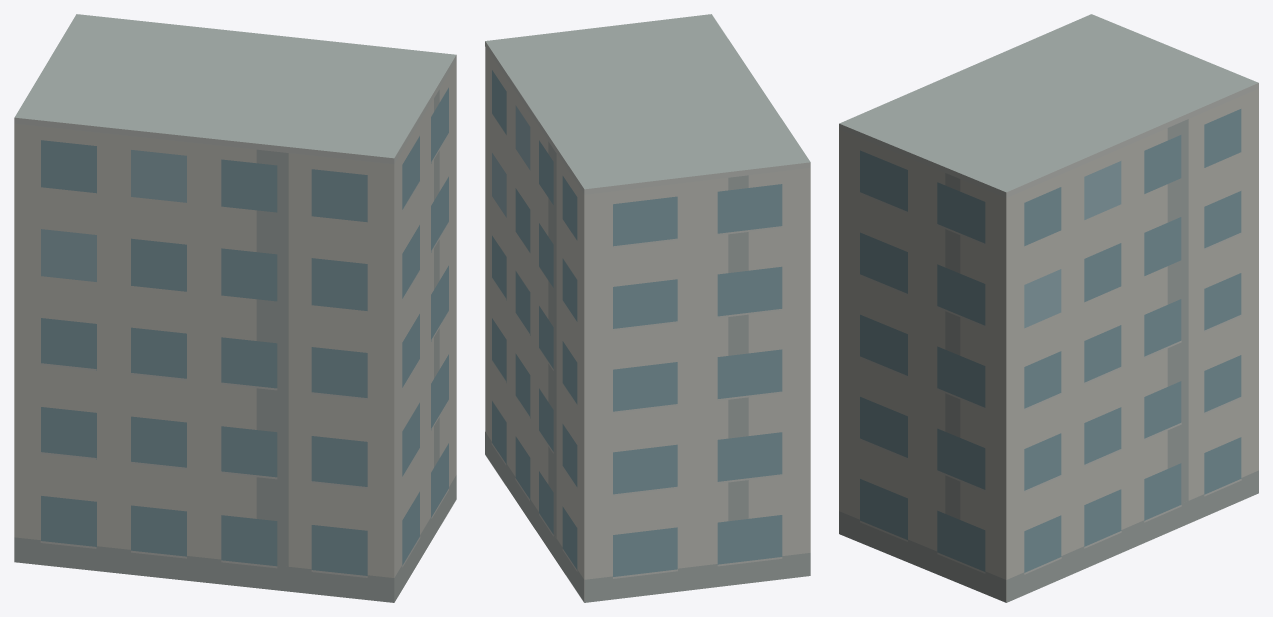
The model's file is residential-0c81cf8e-ea25-46be-b332-c0e050834df9.glb.
3 renders of one model, left to right at view 1: azimuth 30°, elevation 25°; view 2: azimuth 150°, elevation 25°; view 3: azimuth 270°, elevation 25°, orthographic. The views are drawn at different scales.
Visible parts, largest first — view 1: residential-0c81cf8e-ea25-46be-b332-c0e050834df9.tmp; view 2: residential-0c81cf8e-ea25-46be-b332-c0e050834df9.tmp; view 3: residential-0c81cf8e-ea25-46be-b332-c0e050834df9.tmp.
Boxes of the visible parts, box(x1,y1,x2,y2) form: residential-0c81cf8e-ea25-46be-b332-c0e050834df9.tmp: box(14, 14, 456, 602); residential-0c81cf8e-ea25-46be-b332-c0e050834df9.tmp: box(485, 14, 810, 602); residential-0c81cf8e-ea25-46be-b332-c0e050834df9.tmp: box(839, 14, 1258, 602).
Size of the model in its own units: 16.69 by 17.9 by 16.6.
